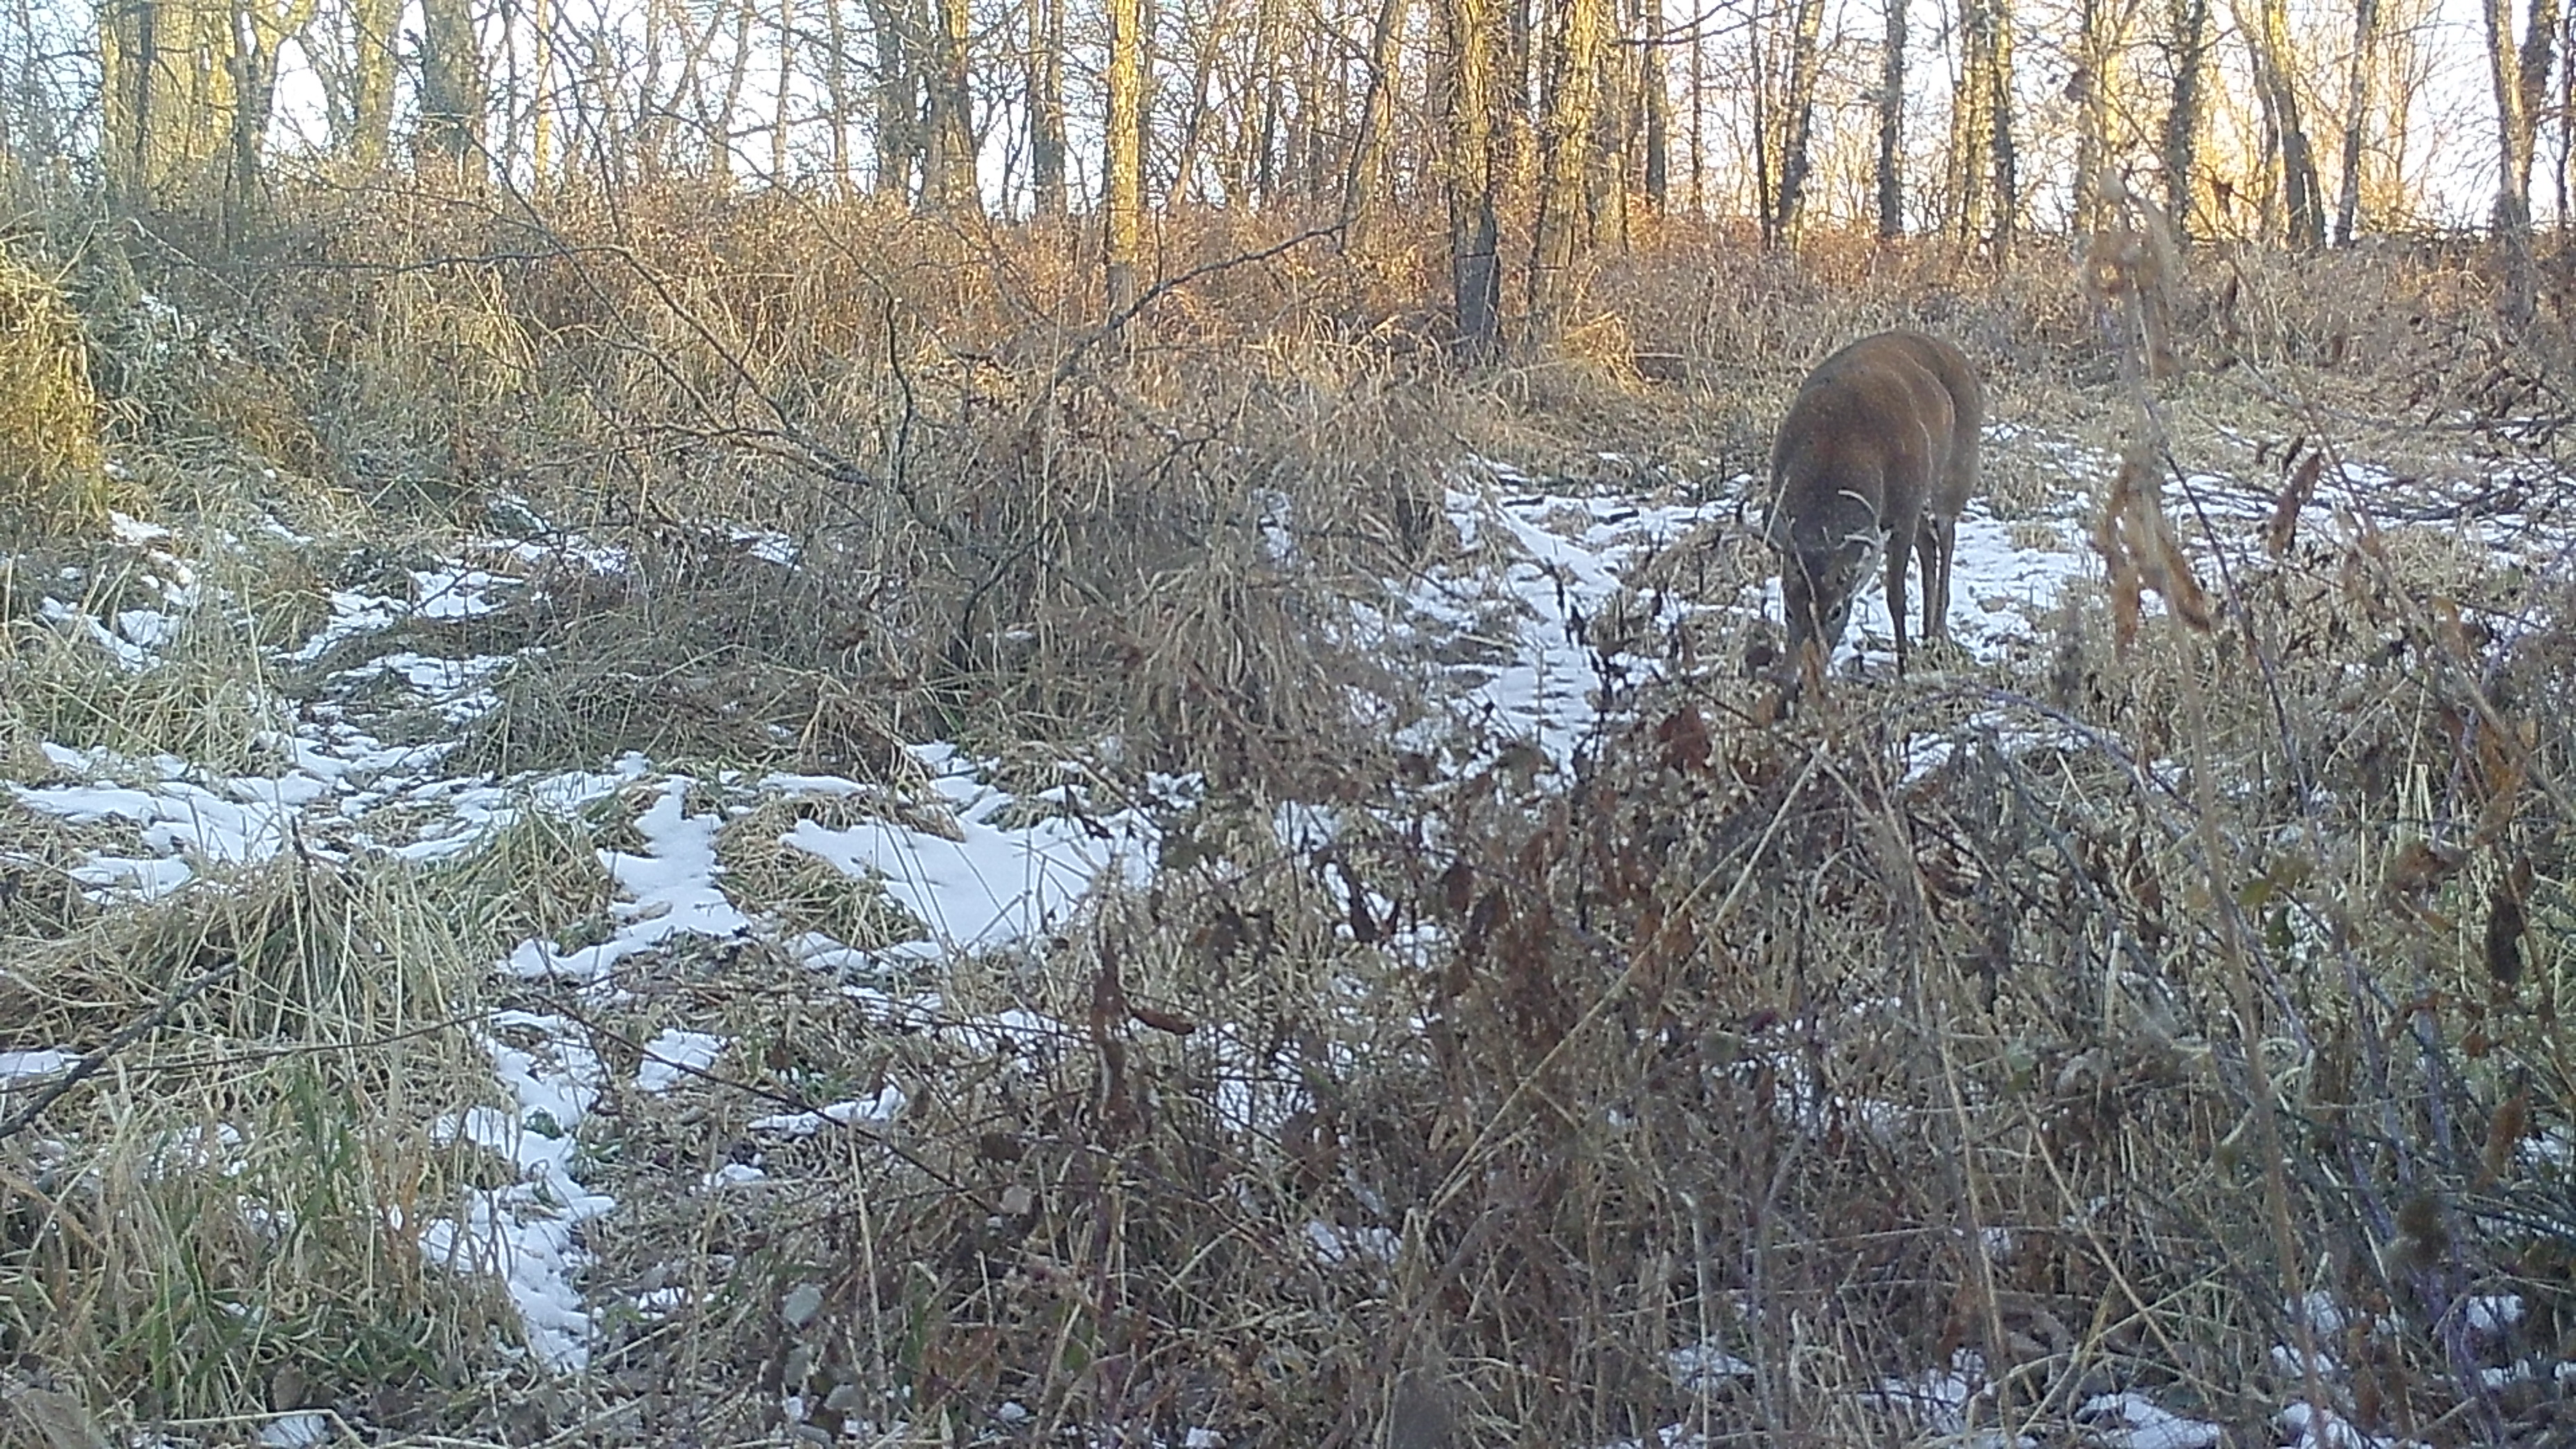DeerBuck: (1732, 326, 1980, 692)
DeerBuckHead: (1732, 482, 1891, 690)
